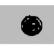correct: (17, 12, 46, 38)
